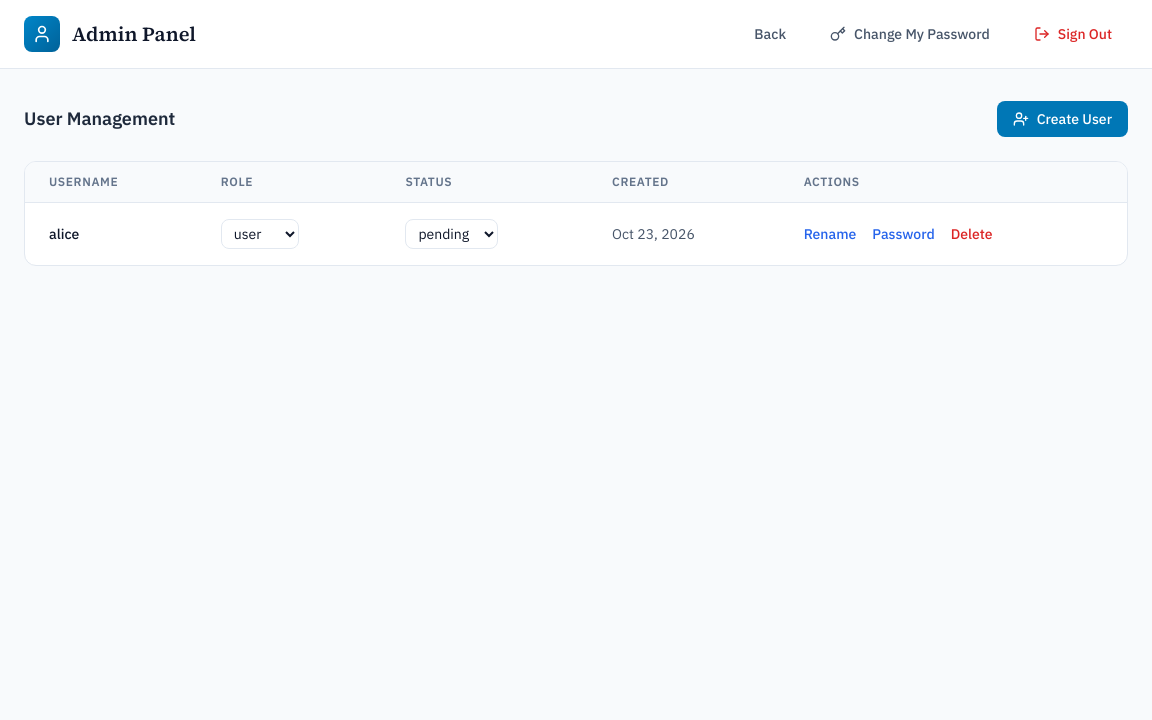
Test: admin username changes › keeps the rename dialog open when a username is taken
Click the button "Rename": (830, 234) [804,224,856,244]
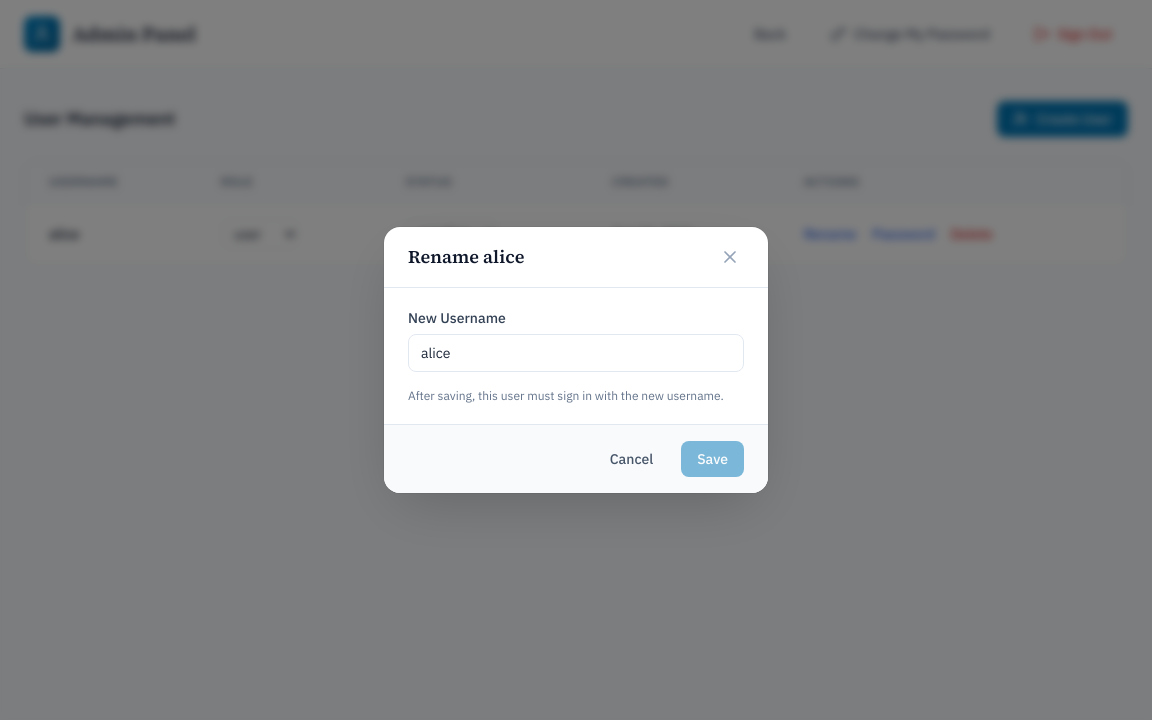
Replace the text in the field with placeholder "Enter new username" with "boss": (576, 353) [408,334,744,372]
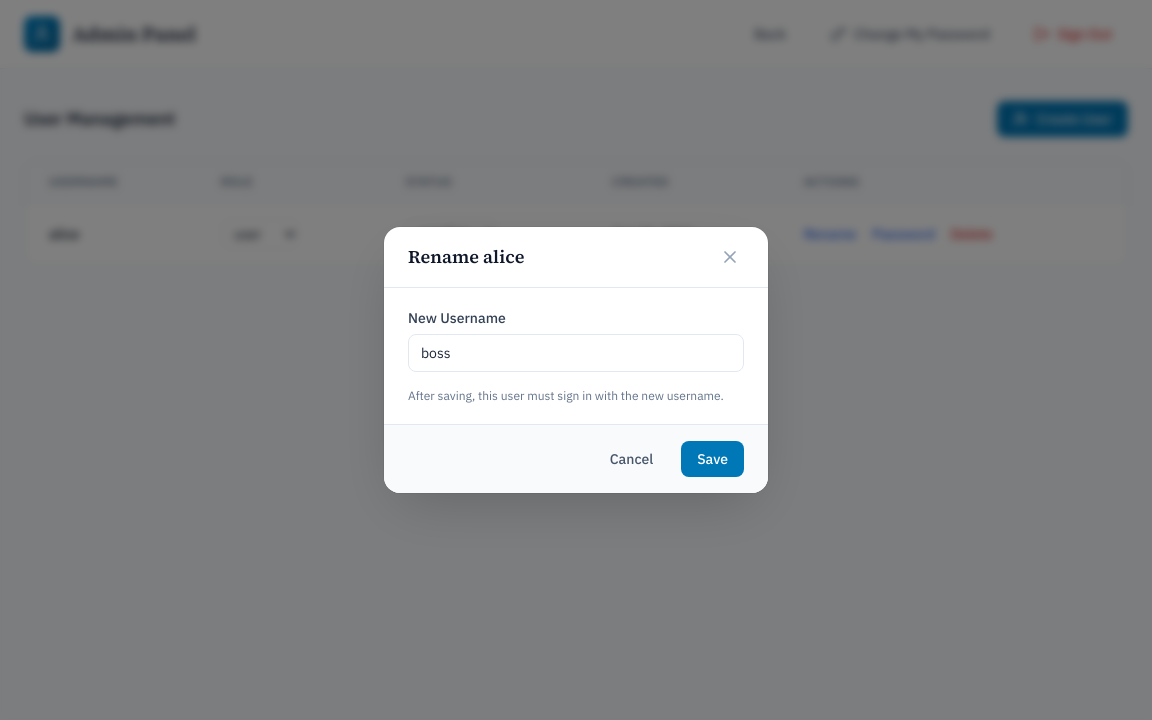
Click the button "Save": (713, 459) [681,441,744,477]
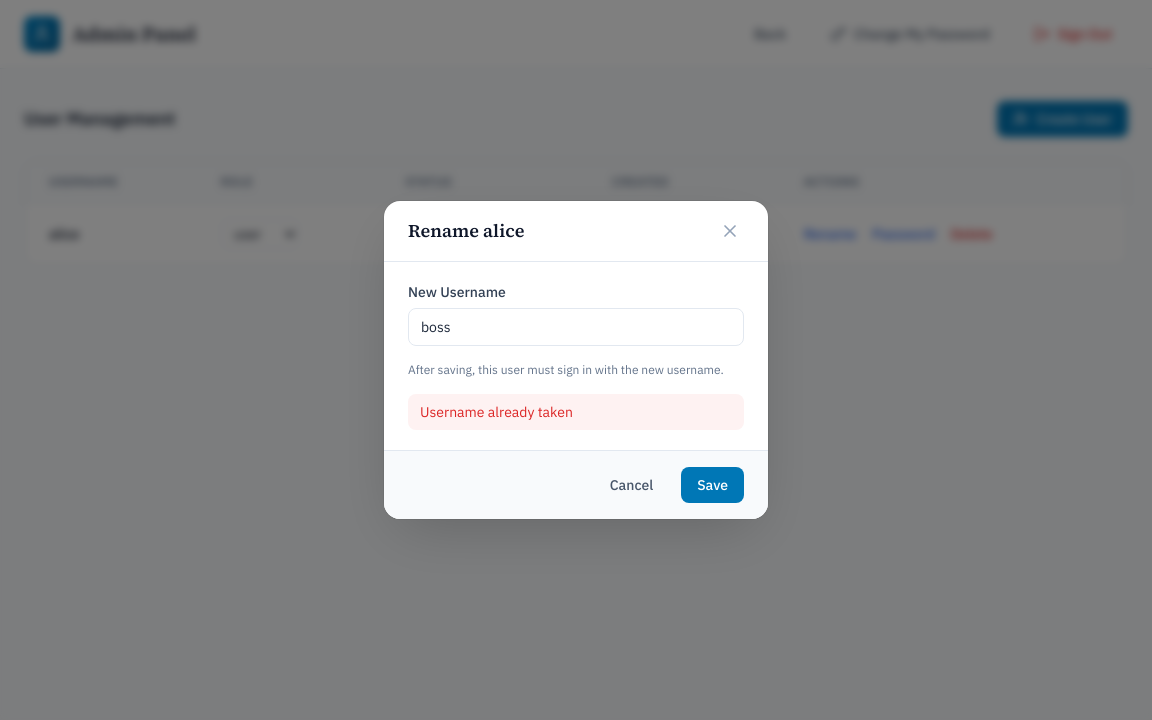
Expected: the text "alice" is shown, [49,225,79,243]
Expected: the text "Username already taken" is shown, [408,394,744,430]
